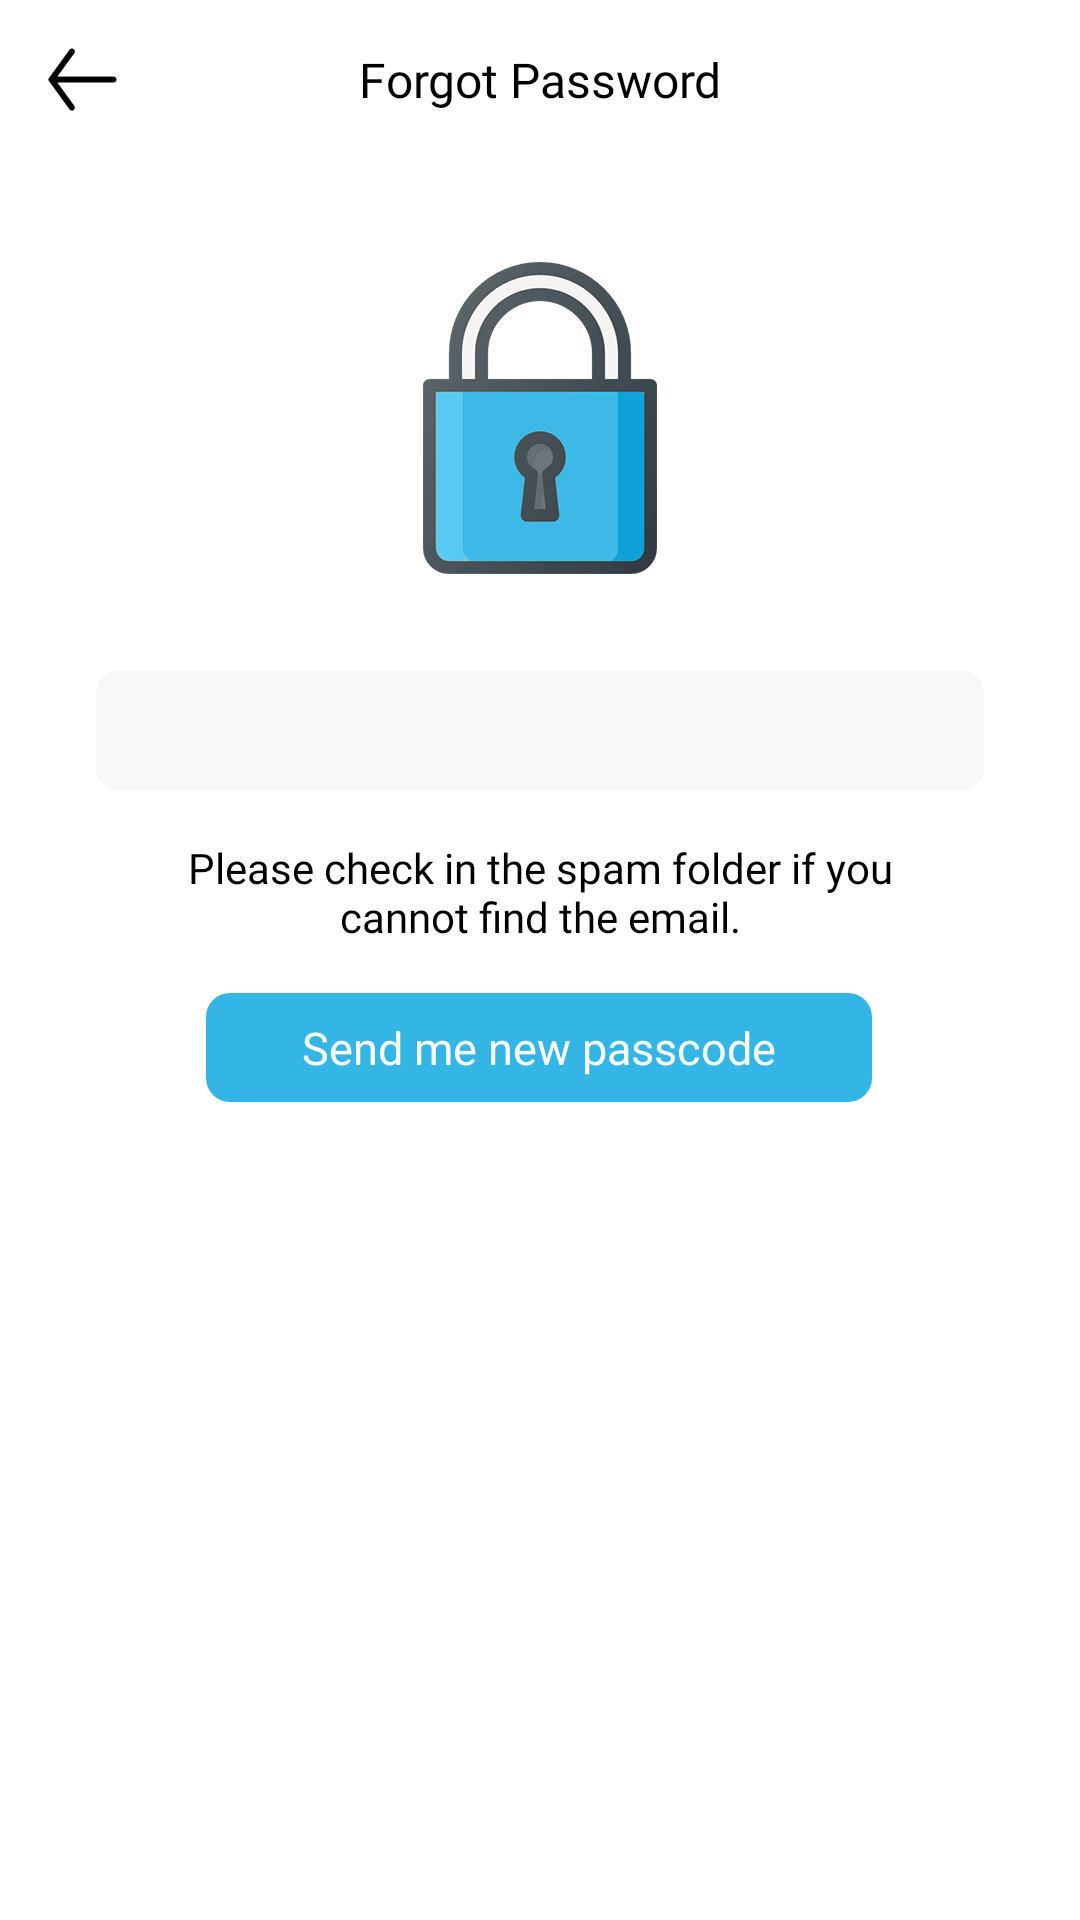

Screen size 1080 × 1920. Icon name, then its center in pixels as [x,y]:
back: [82,79]
lock: [540,418]
